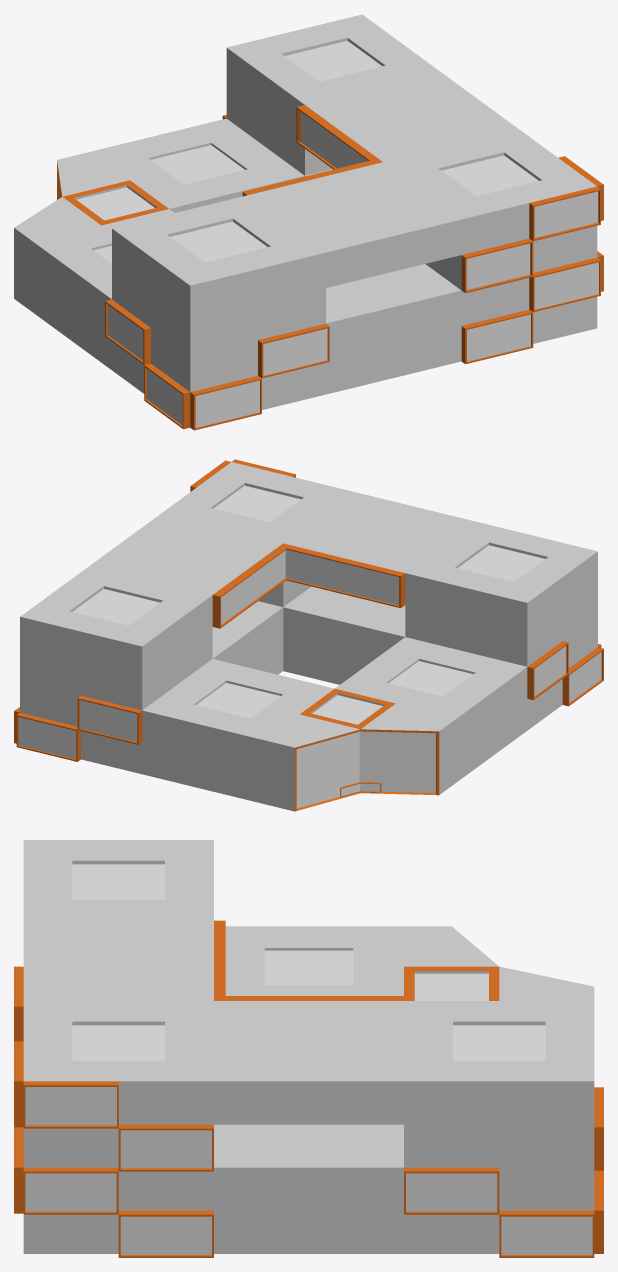
File: centre commercial.fbx
3 renders of one model, top to bottom at view 1: azimuth 30°, elevation 25°; view 2: azimuth 150°, elevation 25°; view 3: azimuth 270°, elevation 25°, orthographic. The views are drawn at different scales.
Visible parts, largest first — view 1: Cube; view 2: Cube; view 3: Cube.
Part boxes in pixels (box(x1,y1,x2,y2)): Cube: box(14, 14, 603, 430); Cube: box(14, 459, 603, 811); Cube: box(14, 840, 603, 1257).
Bounding box in the file's own units: 620 × 200 × 620.
